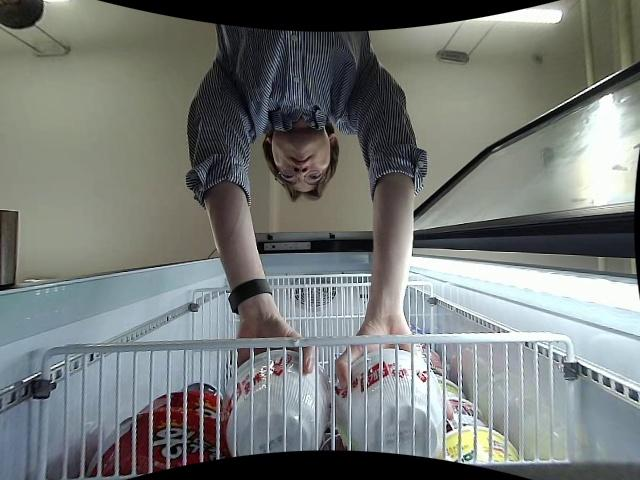00_hand: (337, 326, 418, 397), (235, 316, 315, 376)
09_yukGaeJang: (335, 350, 442, 457), (223, 348, 325, 455)
